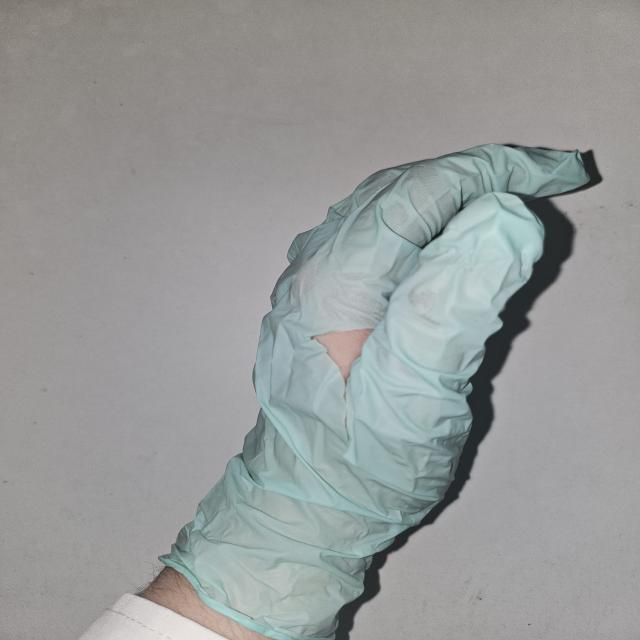gloves_damaged: (158, 142, 605, 629)
